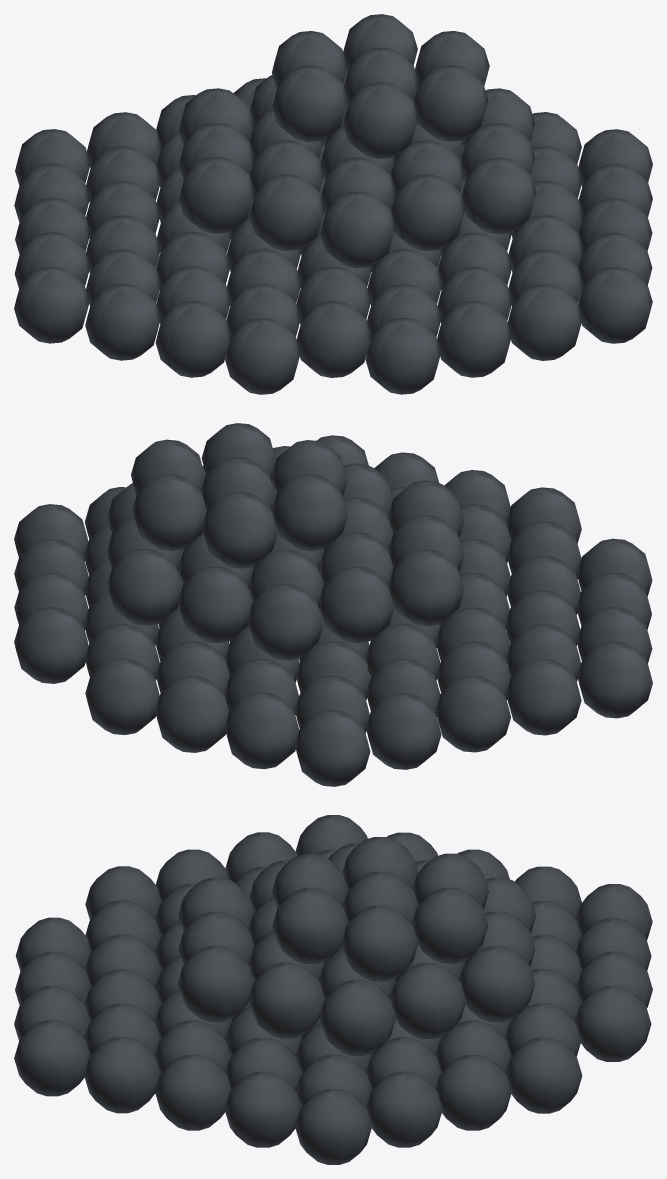
Rendered from ShotgunLeadBirdshot.fbx.
The picture shows the model from 3 angles, top to bottom: view 1: azimuth 30°, elevation 25°; view 2: azimuth 150°, elevation 25°; view 3: azimuth 270°, elevation 25°; orthographic projection.
Parts seen in each view (by area): view 1: ShotgunLeadBirdshot; view 2: ShotgunLeadBirdshot; view 3: ShotgunLeadBirdshot.
Part boxes in pixels (x1,y1,x2,y2): ShotgunLeadBirdshot: (14,14,652,394); ShotgunLeadBirdshot: (14,423,652,786); ShotgunLeadBirdshot: (14,815,652,1164).
Size of the model in its own units: 3.19 by 0.901 by 2.82.
1 material, 1 textured.
